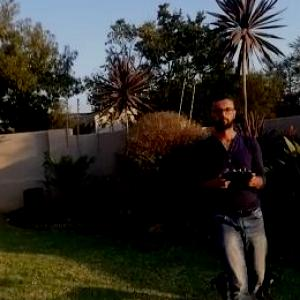follow: (192, 84, 271, 299)
